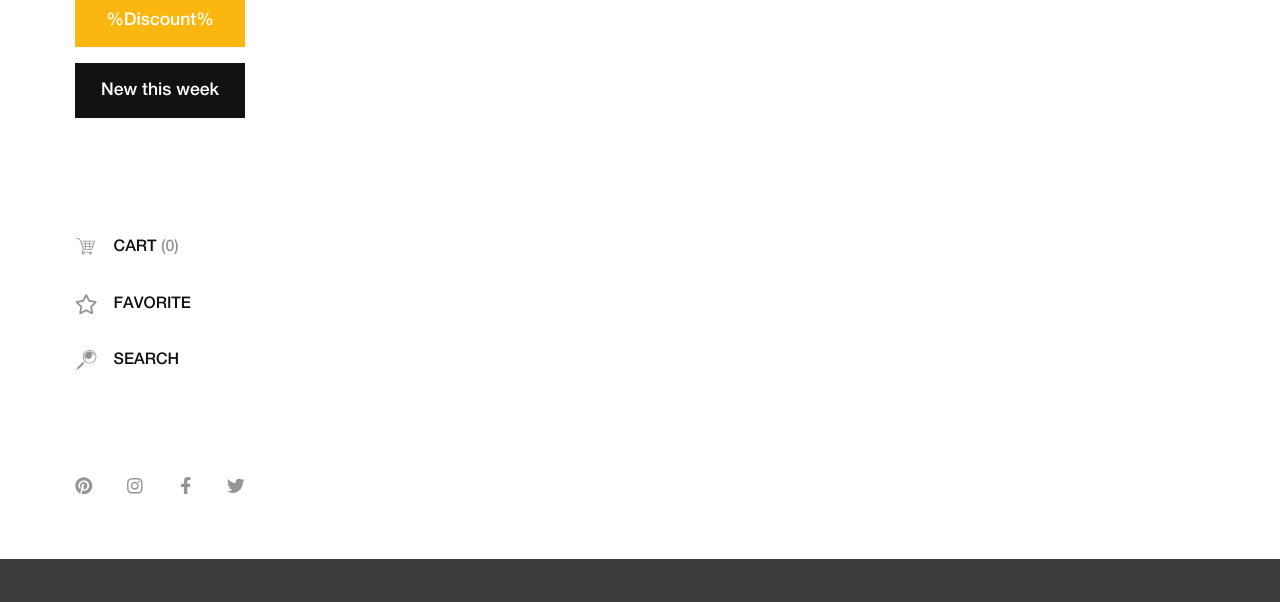
Search spec › Should navigate to the shop page if the search form is submitted
(page scrolled)
Click the button "search". click: point(160, 360)
box: [75, 333, 245, 387]
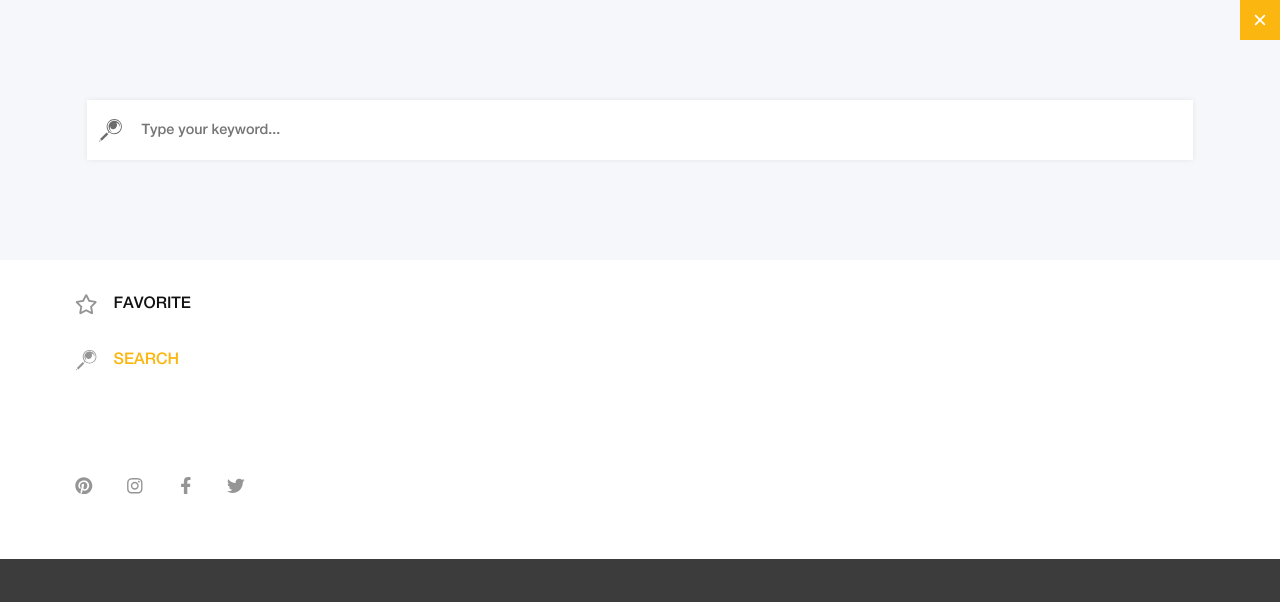
Type "test" into the search field with placeholder "Type your keyword...". click: point(664, 130)
box: [134, 100, 1194, 160]
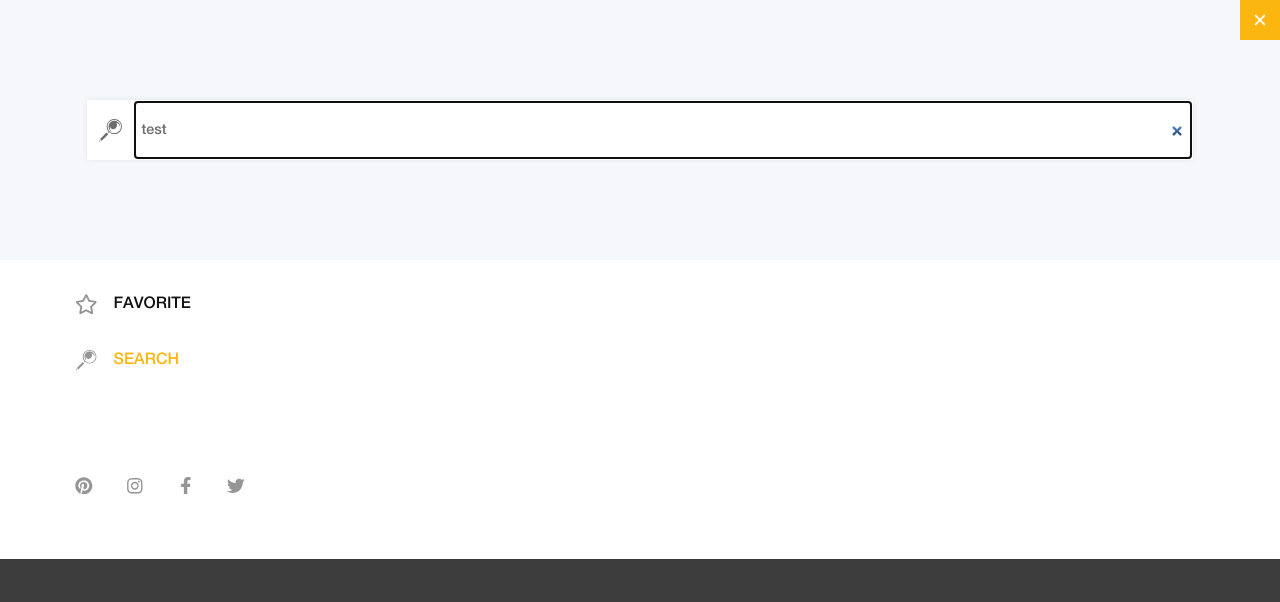
Click the button named "search". click: point(111, 130)
box: [87, 100, 134, 160]
(page scrolled)
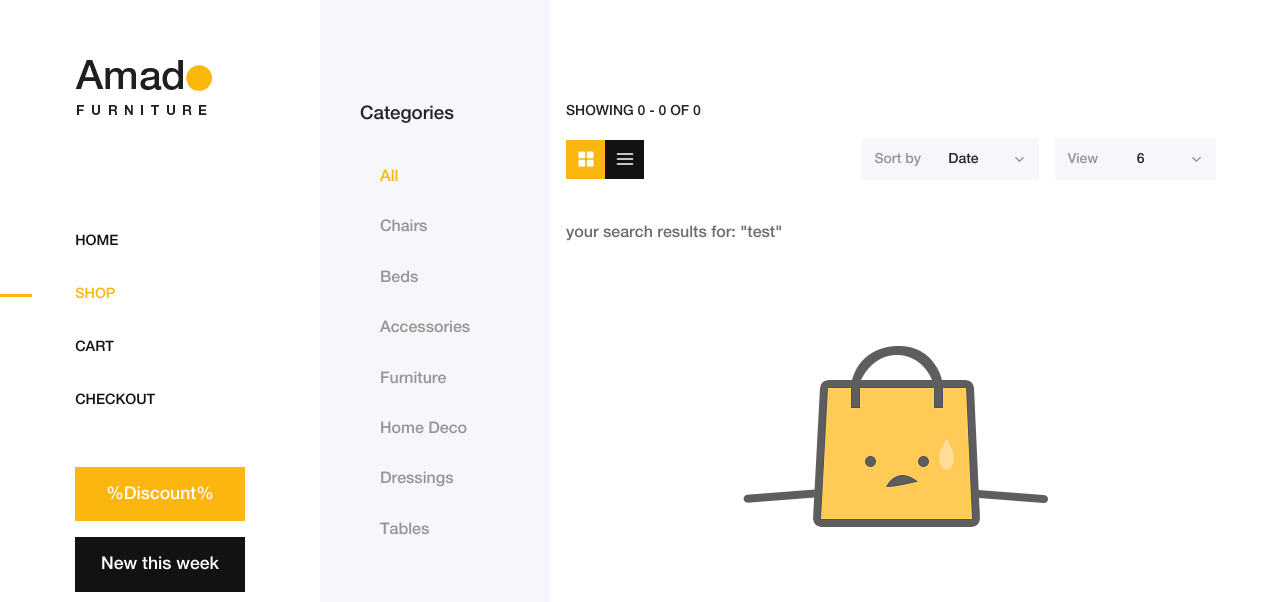
Result: the heading "categories" is shown at [360, 104, 454, 124]
